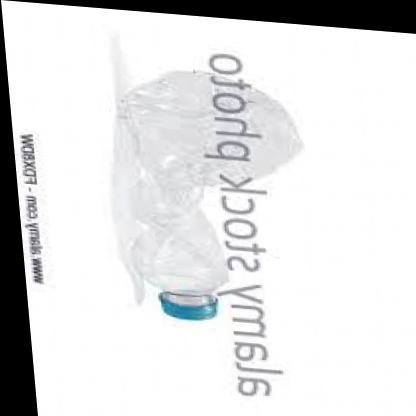Plastic: (73, 30, 324, 346)
